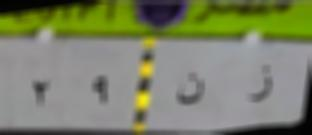2: (29, 77, 56, 110)
9: (89, 70, 116, 111)
noon: (173, 70, 211, 114)
zay: (245, 58, 277, 112)
